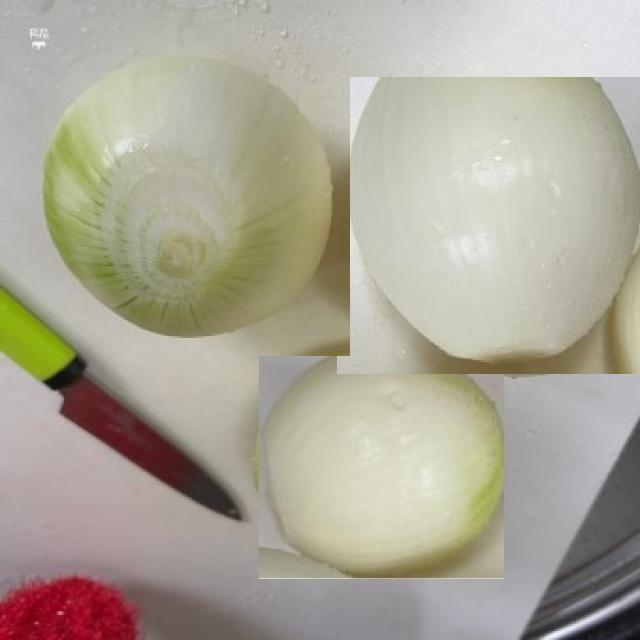Onion: (22, 48, 350, 356), (340, 75, 640, 378), (258, 344, 504, 579)
